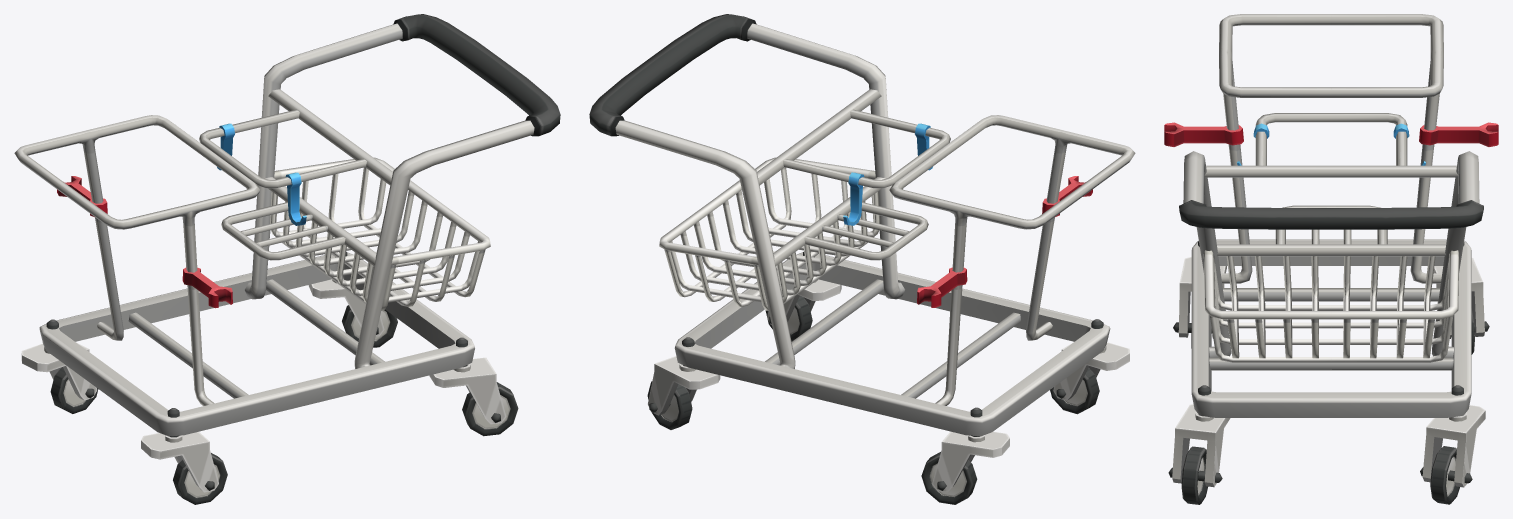
File: cleaners_cleaningCart_1.fbx
3 renders of one model, left to right at view 1: azimuth 30°, elevation 25°; view 2: azimuth 150°, elevation 25°; view 3: azimuth 270°, elevation 25°, orthographic. The views are drawn at different scales.
Visible parts, largest first — view 1: cleaners_cleaningCart_1; view 2: cleaners_cleaningCart_1; view 3: cleaners_cleaningCart_1.
Boxes of the visible parts, x1,y1,x2,y2 form: cleaners_cleaningCart_1: (14,14,560,504); cleaners_cleaningCart_1: (589,14,1135,504); cleaners_cleaningCart_1: (1164,14,1498,504).
Bounding box in the file's own units: 77.91 × 52.51 × 48.81.
